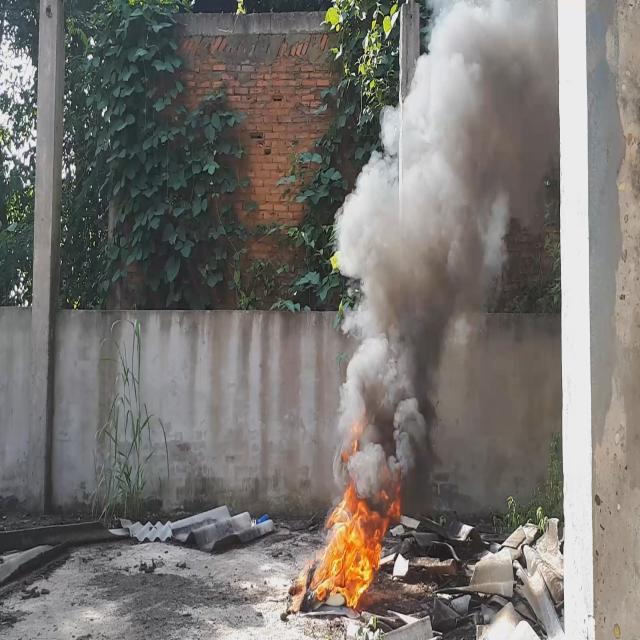Fire: (311, 466, 404, 610)
Smoke: (332, 0, 558, 498)
